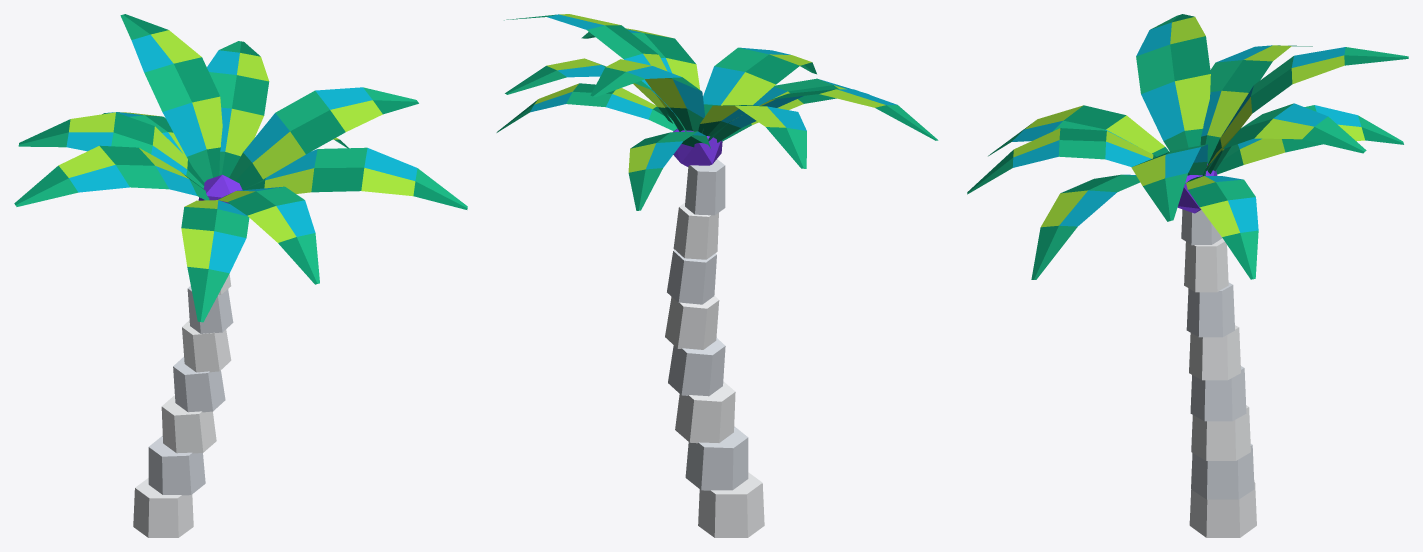
Rendered from Palm.glb.
3 views of the same model, side by side, from view 1: azimuth 30°, elevation 25°; view 2: azimuth 150°, elevation 25°; view 3: azimuth 270°, elevation 25° (orthographic). The views are drawn at different scales.
Visible parts, largest first — view 1: Palm_Trunk; view 2: Palm_Trunk; view 3: Palm_Trunk.
Part boxes in pixels (left/top/right/bottom): Palm_Trunk: left=14, top=14, right=467, bottom=537; Palm_Trunk: left=496, top=14, right=938, bottom=537; Palm_Trunk: left=967, top=14, right=1408, bottom=537.
Size of the model in its own units: 6.39 by 6.78 by 5.5.
